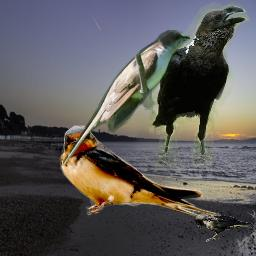Crow: (149, 2, 250, 167), (195, 212, 255, 242)
Cuckoo: (61, 30, 190, 167)
Swallow: (58, 125, 220, 224)
